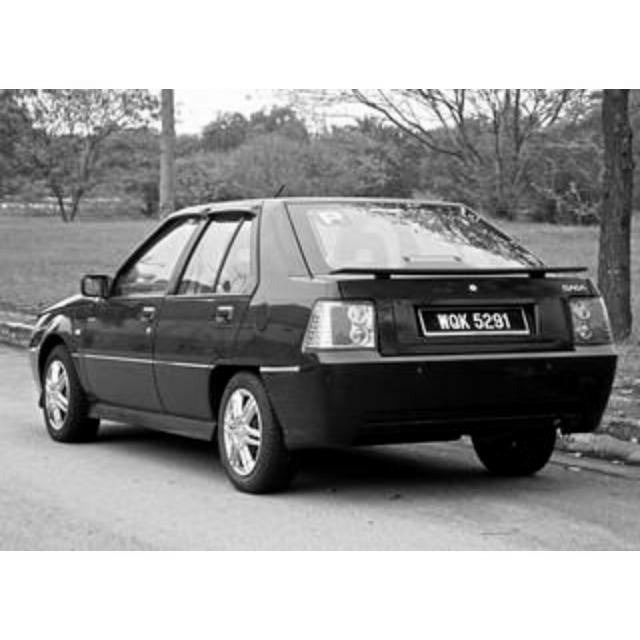fender-dent: (18, 295, 120, 353)
